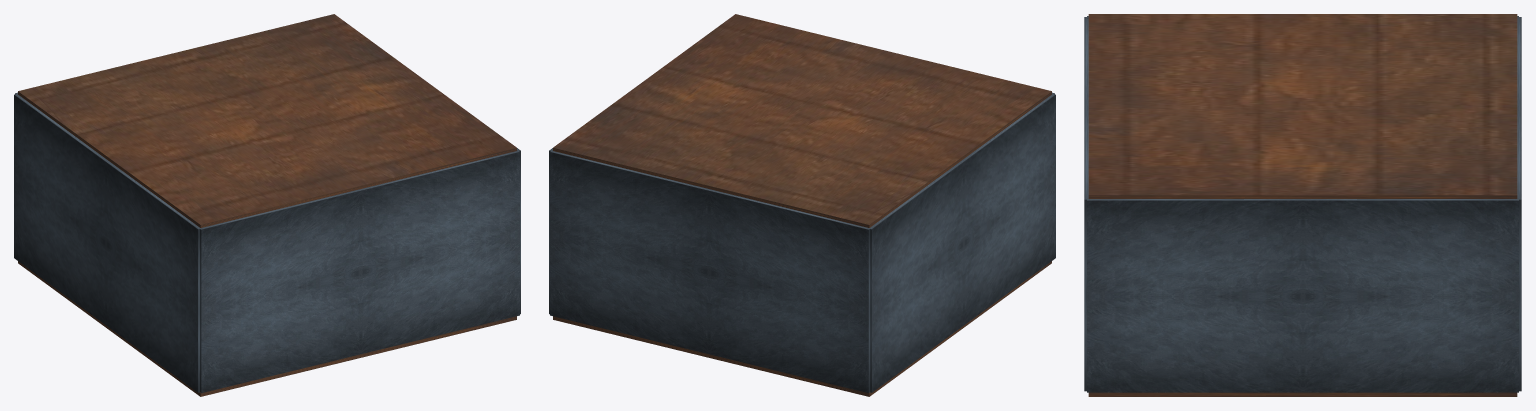
The model's file is Market.glb.
3 renders of one model, left to right at view 1: azimuth 30°, elevation 25°; view 2: azimuth 150°, elevation 25°; view 3: azimuth 270°, elevation 25°, orthographic. The views are drawn at different scales.
Visible parts, largest first — view 1: market painted plaster, Painted boards.001, Carved walnut.001; view 2: market painted plaster, Painted boards.001, Carved walnut.001; view 3: market painted plaster, Painted boards.001, Carved walnut.001.
Boxes of the visible parts, bbox=[...] form: market painted plaster: bbox=[14, 92, 520, 393]; Painted boards.001: bbox=[18, 14, 516, 227]; Carved walnut.001: bbox=[18, 261, 516, 396]; market painted plaster: bbox=[549, 92, 1055, 393]; Painted boards.001: bbox=[553, 14, 1051, 227]; Carved walnut.001: bbox=[553, 261, 1051, 396]; market painted plaster: bbox=[1084, 16, 1521, 392]; Painted boards.001: bbox=[1088, 14, 1517, 198]; Carved walnut.001: bbox=[1088, 392, 1517, 396].
Size of the model in its own units: 11.52 by 5.87 by 11.52.
9 materials, 7 textured.
